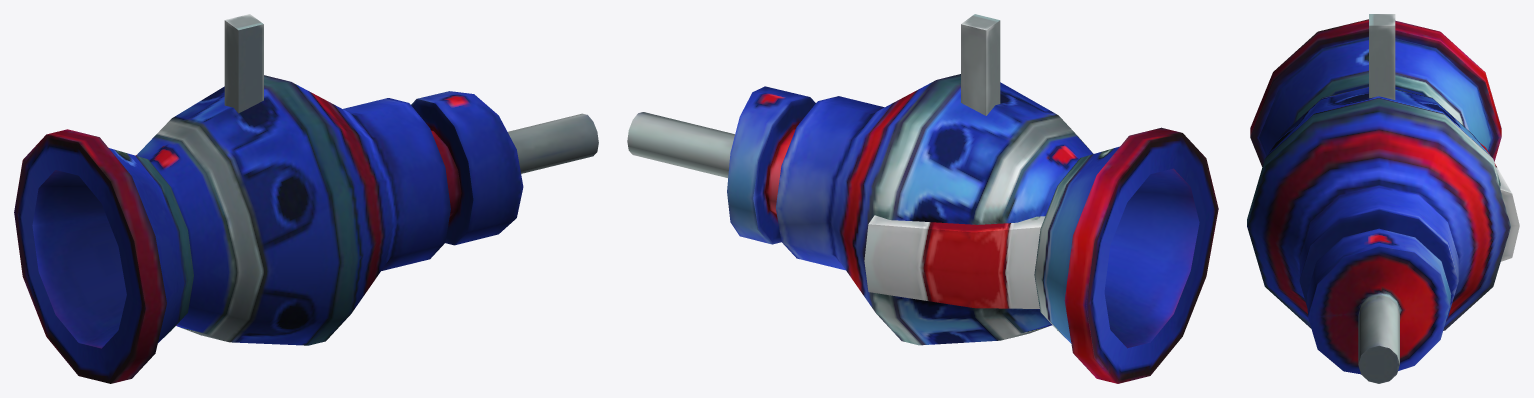
File: sn_shp001.fbx
3 views of the same model, side by side, from view 1: azimuth 30°, elevation 25°; view 2: azimuth 150°, elevation 25°; view 3: azimuth 270°, elevation 25° (orthographic). The views are drawn at different scales.
Visible parts, largest first — view 1: sn_shp001; view 2: sn_shp001; view 3: sn_shp001.
Part boxes in pixels (x1,y1,x2,y2): sn_shp001: (14, 14, 598, 383); sn_shp001: (627, 14, 1218, 383); sn_shp001: (1247, 14, 1519, 383).
Bounding box in the file's own units: 1.01 × 0.605 × 0.4893.
1 material, 1 textured.
